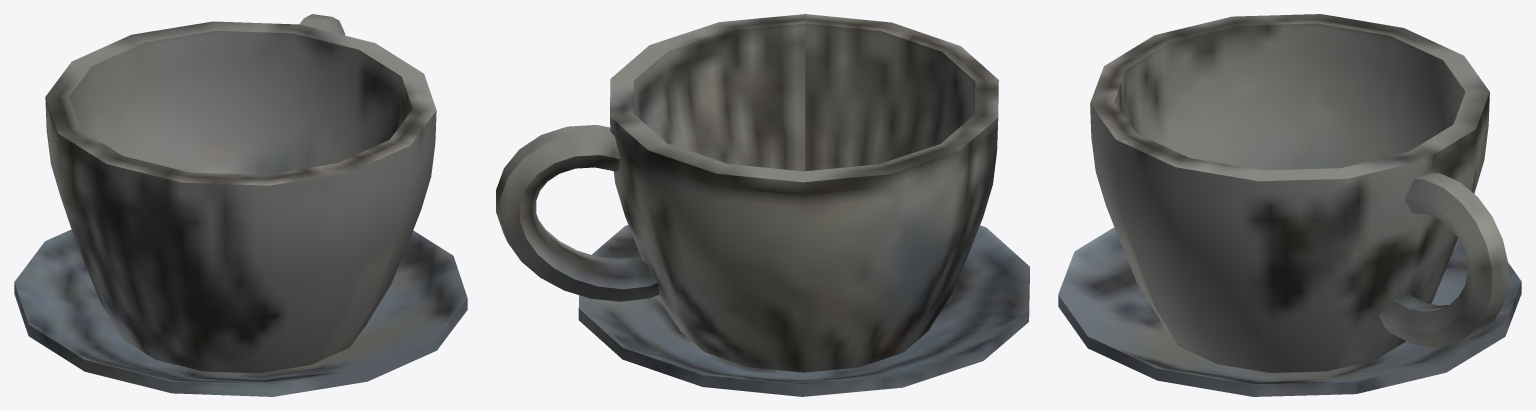
File: cup.fbx
The picture shows the model from 3 angles, left to right: view 1: azimuth 30°, elevation 25°; view 2: azimuth 150°, elevation 25°; view 3: azimuth 270°, elevation 25°; orthographic projection. The views are drawn at different scales.
Parts seen in each view (by area): view 1: Boxes.023; view 2: Boxes.023; view 3: Boxes.023.
Part boxes in pixels (x1,y1,x2,y2): Boxes.023: [14, 14, 467, 396]; Boxes.023: [496, 14, 1029, 396]; Boxes.023: [1058, 14, 1521, 396].
Size of the model in its own units: 17.86 by 9.98 by 17.58.
